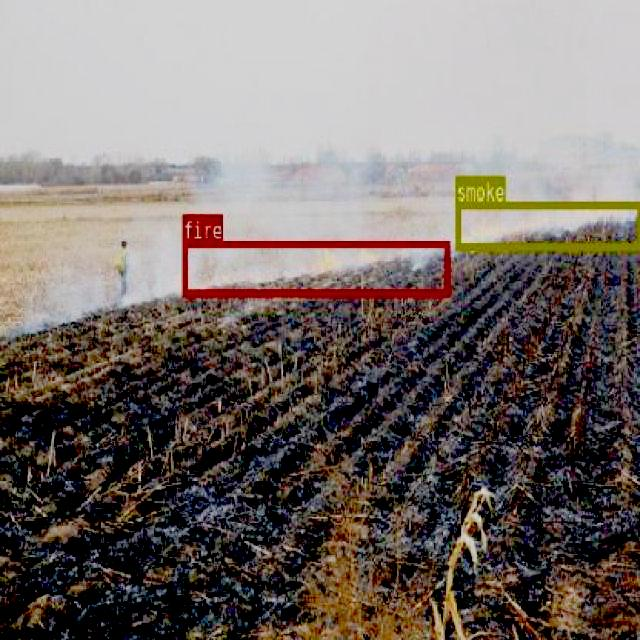fire: (182, 238, 450, 294)
smoke: (455, 200, 640, 249)
